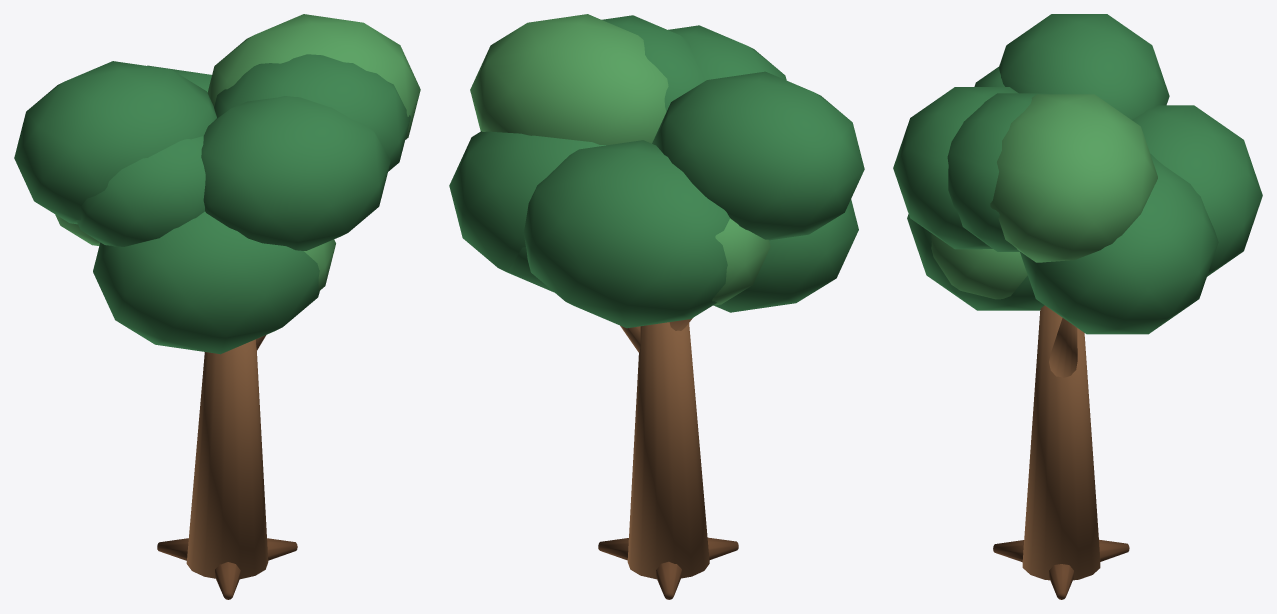
Rendered from Realistic_Tree_A.fbx.
The picture shows the model from 3 angles, left to right: view 1: azimuth 30°, elevation 25°; view 2: azimuth 150°, elevation 25°; view 3: azimuth 270°, elevation 25°; orthographic projection. The views are drawn at different scales.
Parts seen in each view (by area): view 1: Foliage.020, Foliage.018, Foliage.016, Trunk.004, Foliage.017, Foliage.021, Foliage.011, Foliage.019, Trunk_Root_2; view 2: Foliage.014, Foliage.016, Foliage.011, Trunk.004, Foliage.012, Foliage.018, Foliage.021, Foliage.020, Foliage.015, Trunk_Root_1, Foliage.013; view 3: Foliage.011, Foliage.012, Trunk.004, Foliage.016, Foliage.014, Foliage.020, Foliage.021, Foliage.019, Foliage.018, Trunk_Branch_A, Trunk_Root_0.
Boxes of the visible parts, <box> form: Foliage.020: <box>201,96,390,250</box>; Foliage.018: <box>93,211,319,354</box>; Foliage.016: <box>14,61,216,224</box>; Trunk.004: <box>186,339,268,579</box>; Foliage.017: <box>76,136,205,246</box>; Foliage.021: <box>214,54,410,171</box>; Foliage.011: <box>207,14,420,139</box>; Foliage.019: <box>304,239,335,291</box>; Trunk_Root_2: <box>215,562,240,599</box>; Foliage.014: <box>523,140,729,328</box>; Foliage.016: <box>652,71,864,240</box>; Foliage.011: <box>470,14,668,145</box>; Trunk.004: <box>627,322,709,579</box>; Foliage.012: <box>449,131,605,292</box>; Foliage.018: <box>714,199,858,312</box>; Foliage.021: <box>602,15,705,111</box>; Foliage.020: <box>668,25,786,81</box>; Foliage.015: <box>712,218,770,305</box>; Trunk_Root_1: <box>656,561,681,599</box>; Foliage.013: <box>509,247,552,290</box>; Foliage.011: <box>990,94,1157,262</box>; Foliage.012: <box>1020,153,1218,334</box>; Trunk.004: <box>1022,305,1100,580</box>; Foliage.016: <box>998,14,1169,119</box>; Foliage.014: <box>1132,105,1262,276</box>; Foliage.020: <box>893,87,1018,249</box>; Foliage.021: <box>947,93,1052,251</box>; Foliage.019: <box>931,233,1027,299</box>; Foliage.018: <box>907,214,1044,310</box>; Trunk_Branch_A: <box>1049,318,1077,377</box>; Trunk_Root_0: <box>1049,564,1073,599</box>.
Bounding box in the file's own units: 2.3 × 3.11 × 2.04.
